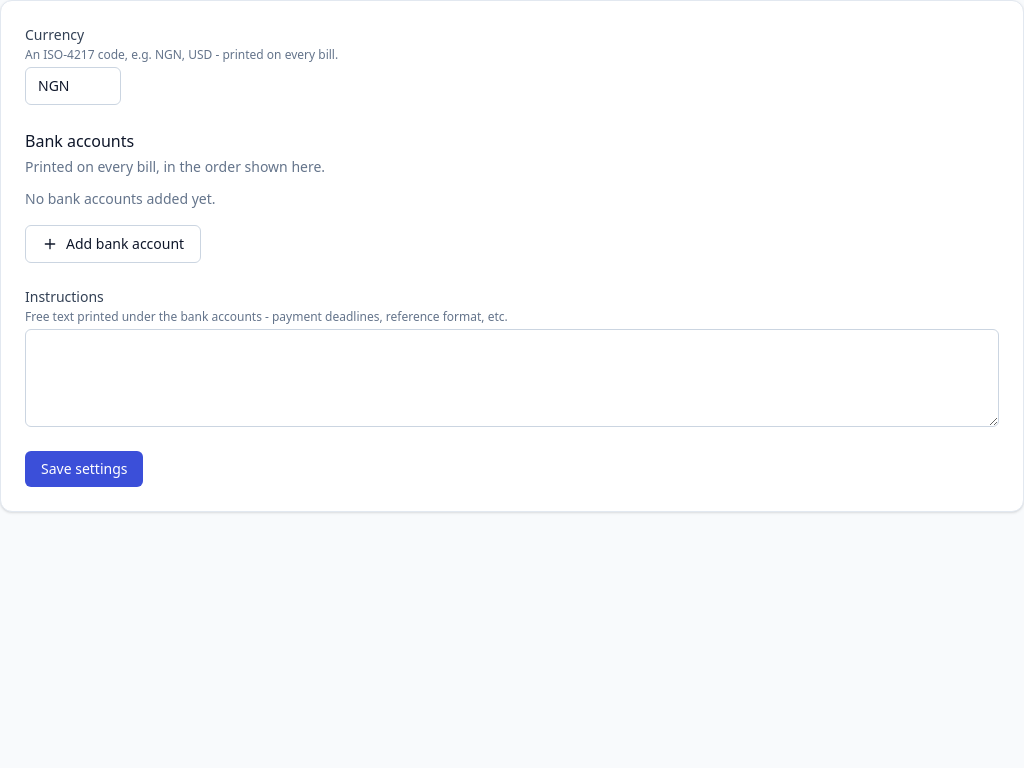
Test: SettingsTab › adds, edits, and removes a bank account, then saves the full list
Expected: the field showing "NGN" is shown, [25,67,121,105]
Click the button "Add bank account": (113, 244) [25,225,201,263]
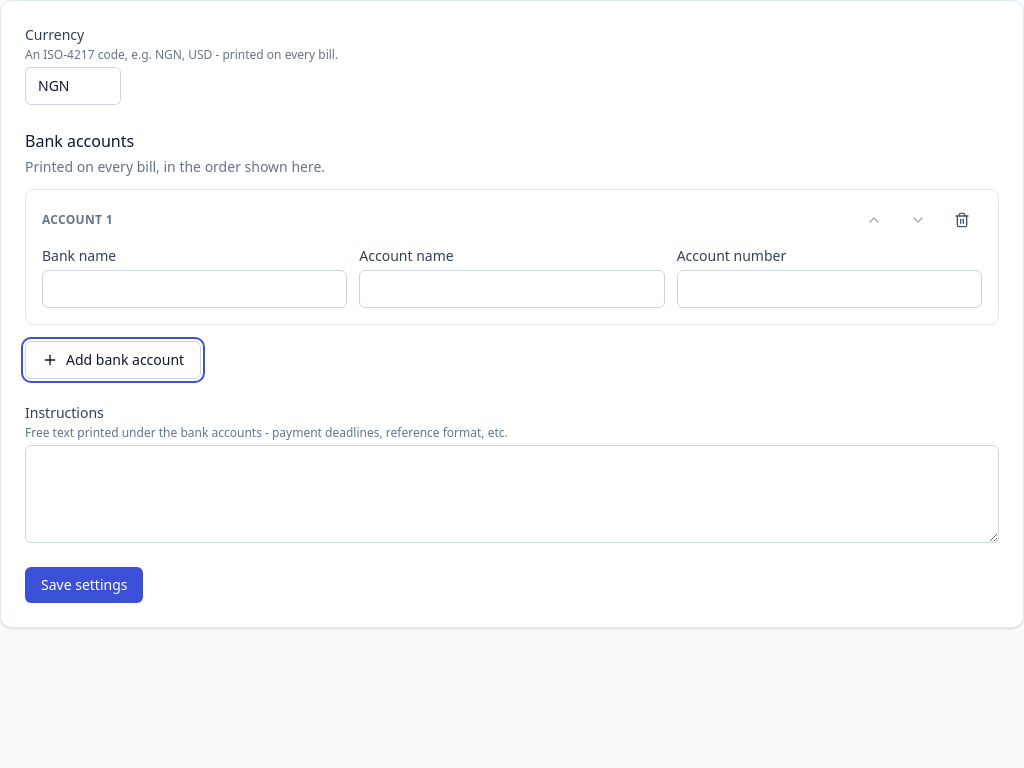
In the field labelled "Bank name": (195, 289) [42,270,347,308], type "GTBank"
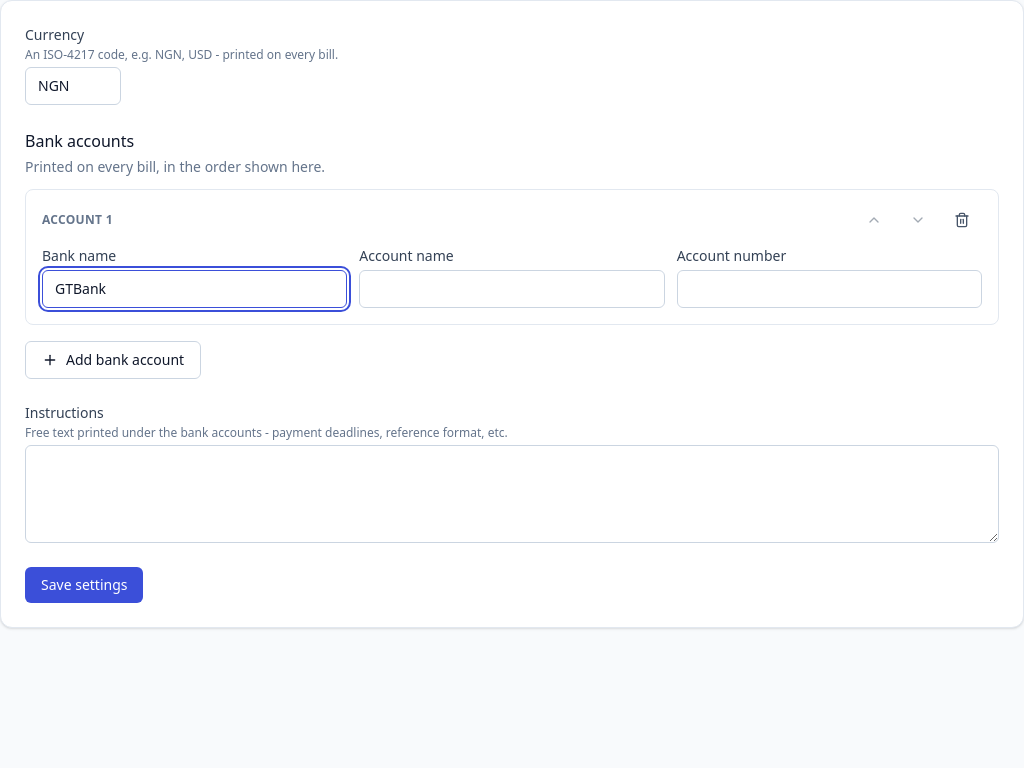
In the field labelled "Account name": (512, 289) [359,270,665,308], type "Billing School"
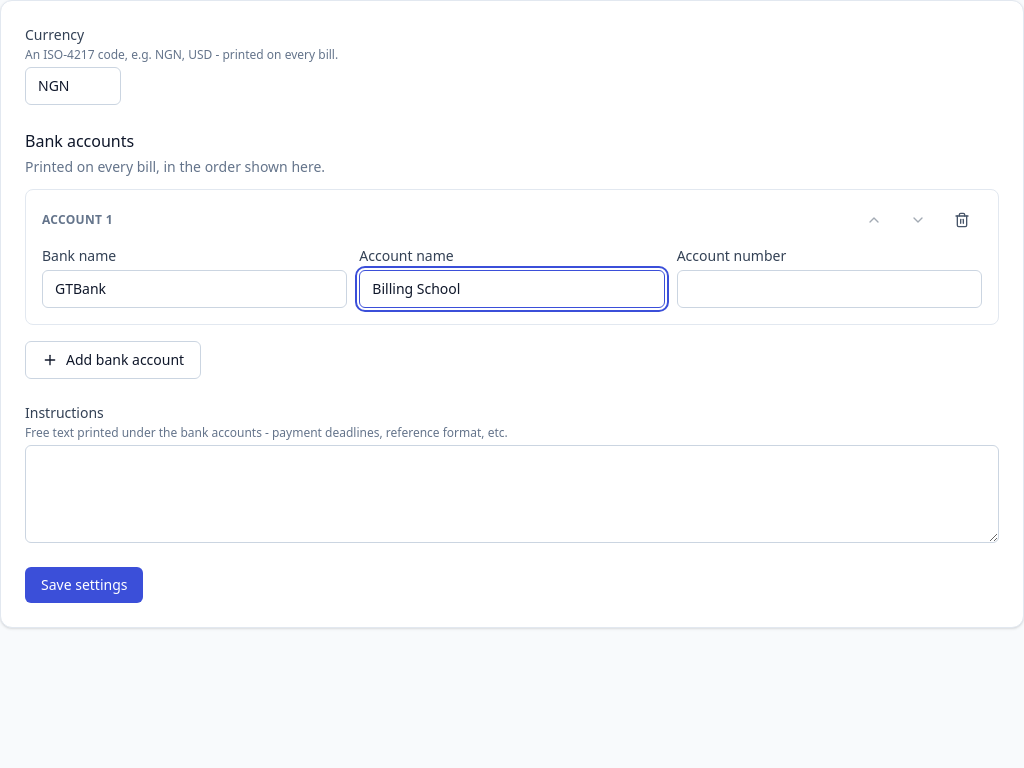
In the field labelled "Account number": (829, 289) [677,270,982,308], type "0123456789"
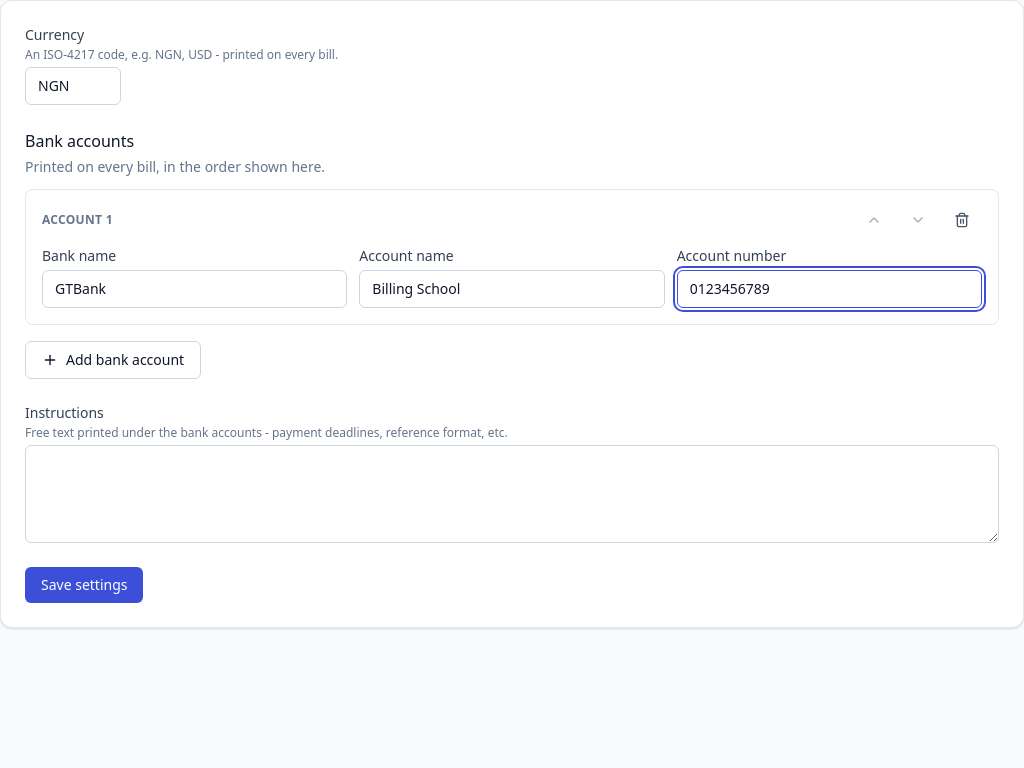
Click the button "Save settings": (84, 585) [25,567,144,603]
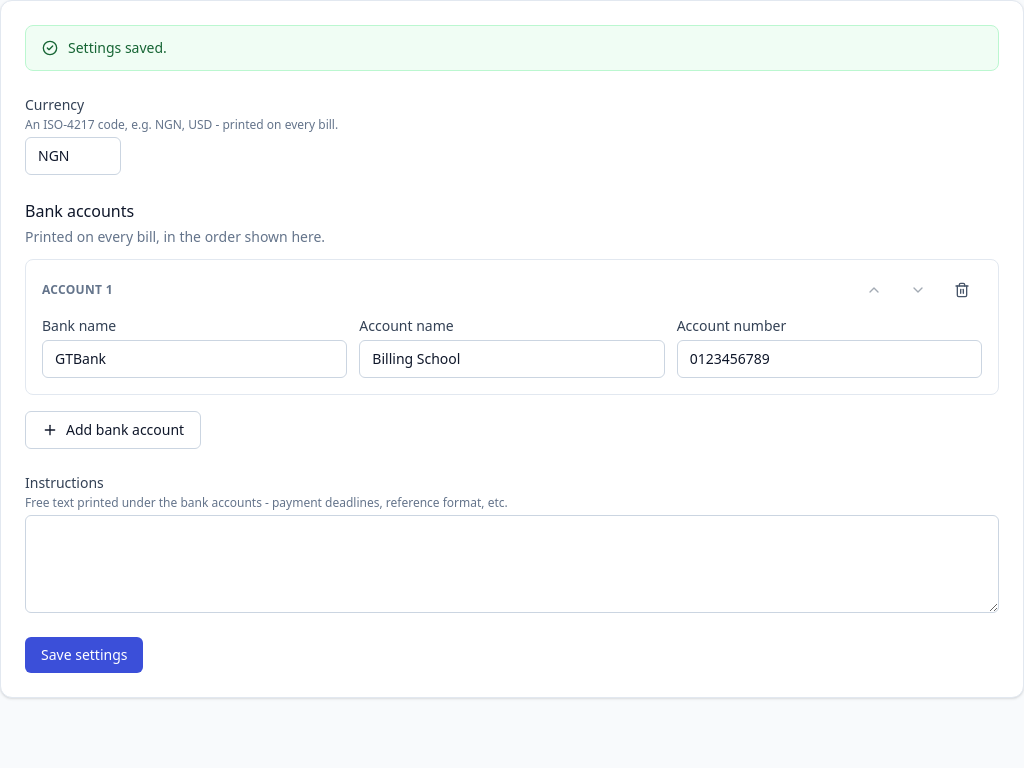
Result: the text "Settings saved." is shown at [68,38,167,58]
